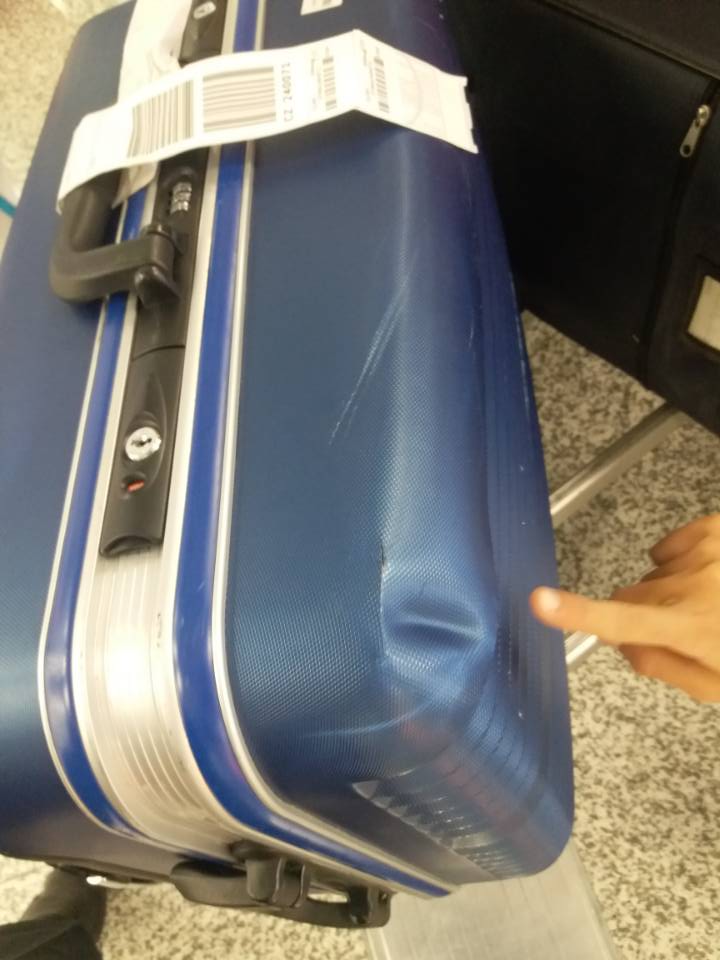rupture: (380, 583, 487, 670)
